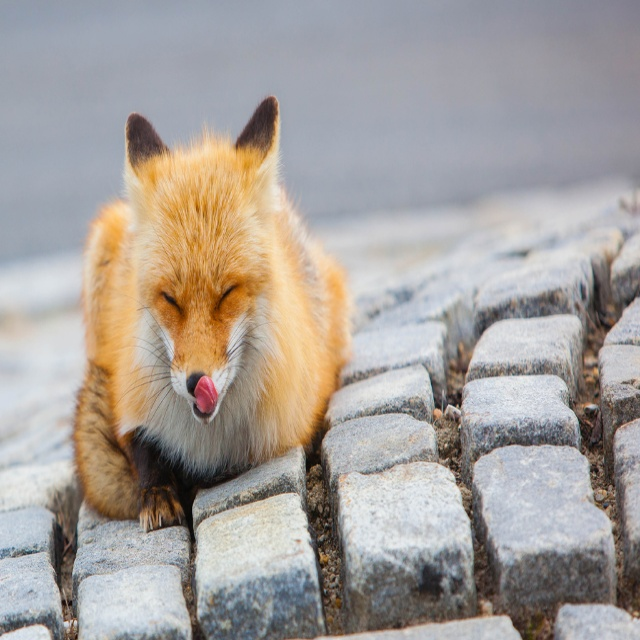Fox: (63, 93, 359, 538)
